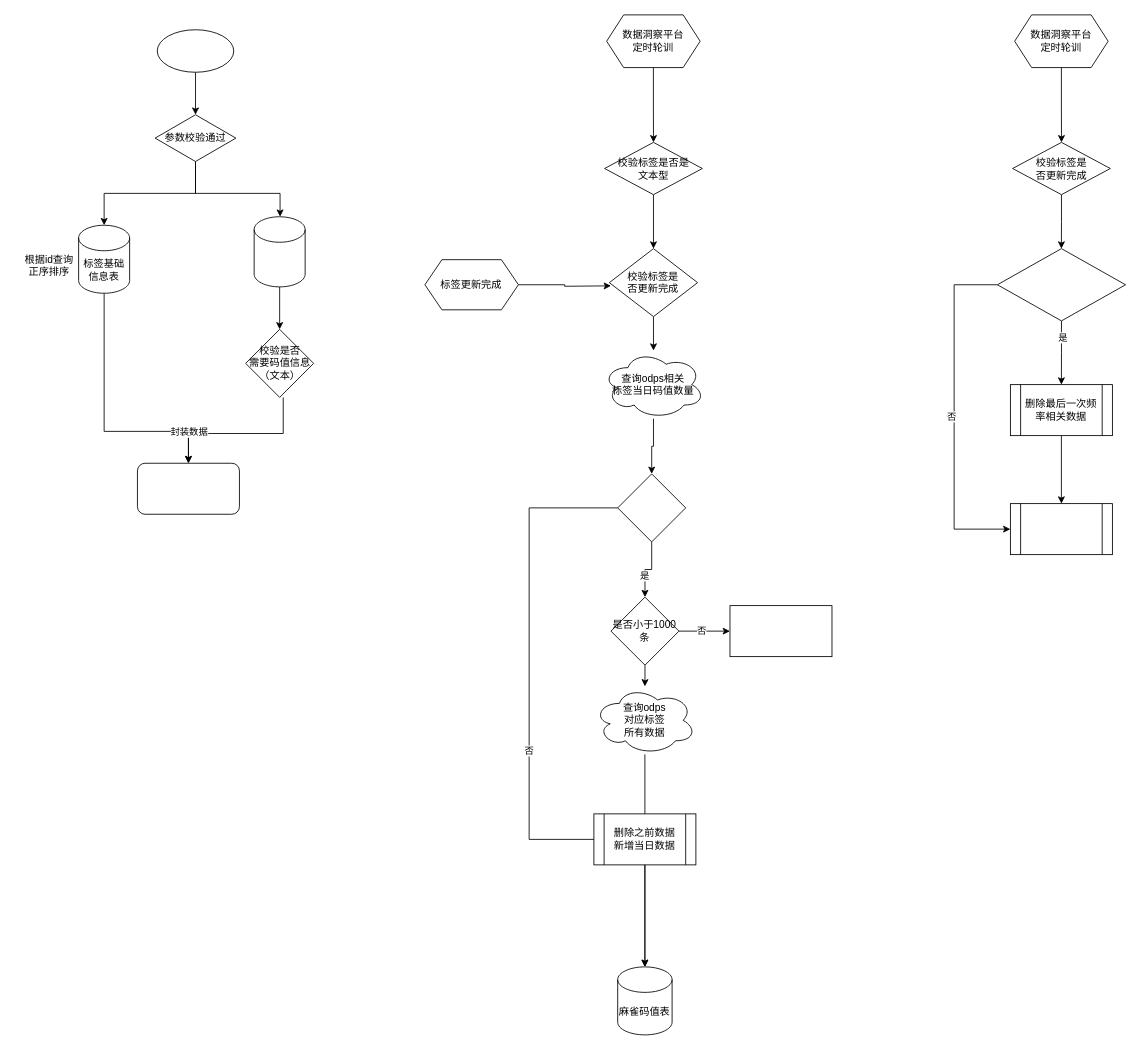
This 1141x1050 diagram has some shape labels left out. Here are the shapes that lost their labels. From the top down, the centre of each, then its label:
At point (195, 50): "查询接口".
At point (279, 251): "标签码值表".
At point (1061, 284): "校验标签是否 存在七次 频率数据".
At point (188, 488): "返回结果".
At point (651, 507): "判断是否是 第一次插入".
At point (1061, 529): "新增当日频率数据前1000条".
At point (780, 631): "不存放当日数据".
